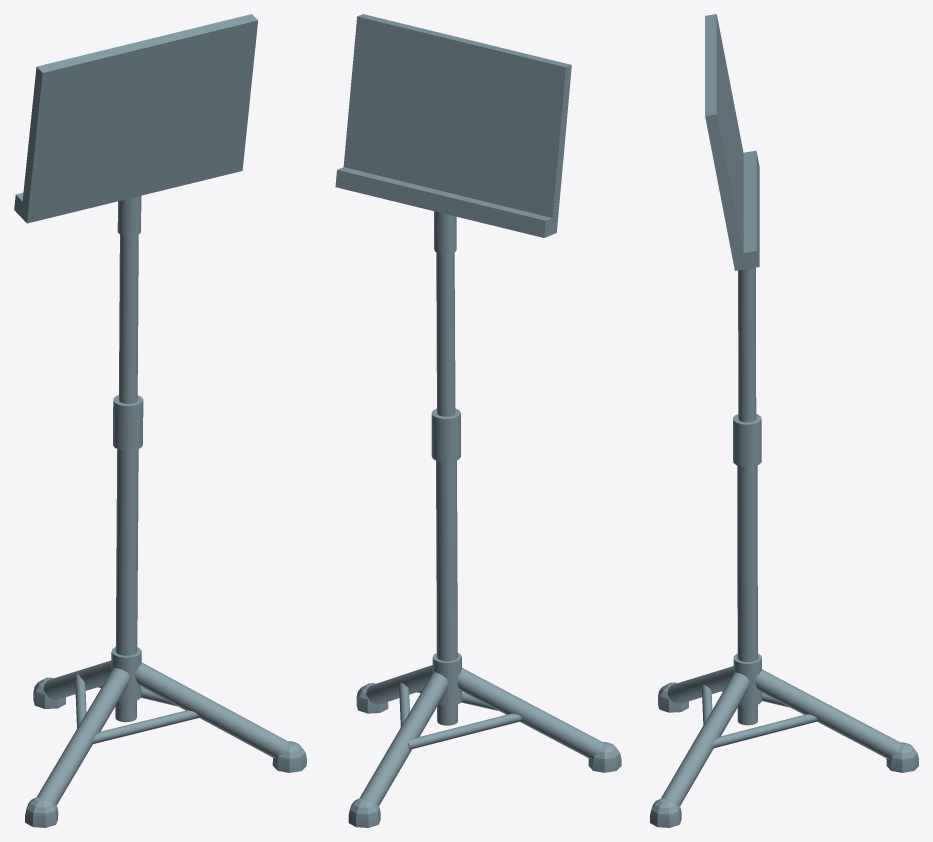
File: Music_Score_Stand.fbx
The picture shows the model from 3 angles, left to right: view 1: azimuth 30°, elevation 25°; view 2: azimuth 150°, elevation 25°; view 3: azimuth 270°, elevation 25°; orthographic projection. The views are drawn at different scales.
Visible parts, largest first — view 1: Music_Score_Stand; view 2: Music_Score_Stand; view 3: Music_Score_Stand.
Part boxes in pixels (x1,y1,x2,y2): Music_Score_Stand: (14, 14, 306, 827); Music_Score_Stand: (335, 14, 621, 827); Music_Score_Stand: (650, 14, 918, 827).
Size of the model in its own units: 35.61 by 91.73 by 31.86.
